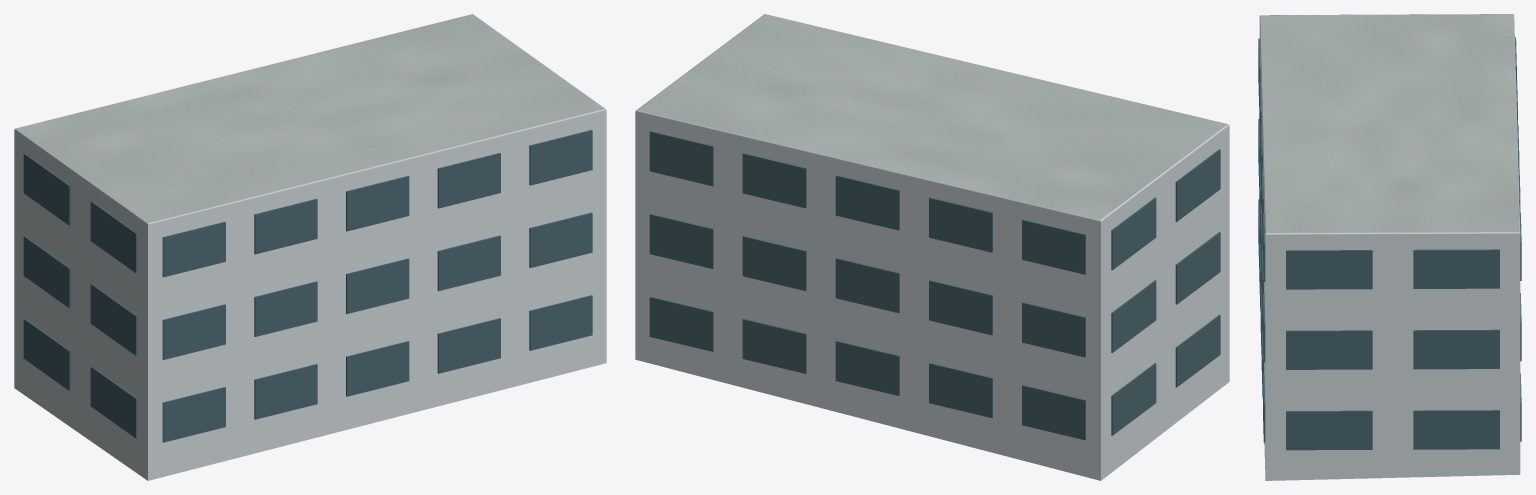
The model's file is intact.glb.
The picture shows the model from 3 angles, left to right: view 1: azimuth 30°, elevation 25°; view 2: azimuth 150°, elevation 25°; view 3: azimuth 270°, elevation 25°; orthographic projection. The views are drawn at different scales.
Parts seen in each view (by area): view 1: SM_osm-576358734_Intact_00, SM_osm-576358734_Intact_01; view 2: SM_osm-576358734_Intact_00, SM_osm-576358734_Intact_01; view 3: SM_osm-576358734_Intact_00, SM_osm-576358734_Intact_01.
Part boxes in pixels (left/top/right/bottom): SM_osm-576358734_Intact_00: left=14, top=14, right=606, bottom=480; SM_osm-576358734_Intact_01: left=23, top=130, right=592, bottom=442; SM_osm-576358734_Intact_00: left=635, top=14, right=1229, bottom=480; SM_osm-576358734_Intact_01: left=649, top=131, right=1220, bottom=440; SM_osm-576358734_Intact_00: left=1259, top=14, right=1520, bottom=480; SM_osm-576358734_Intact_01: left=1258, top=37, right=1521, bottom=450.
Bounding box in the file's own units: 2.2 × 1.17 × 1.11.
4 materials, 1 textured.
